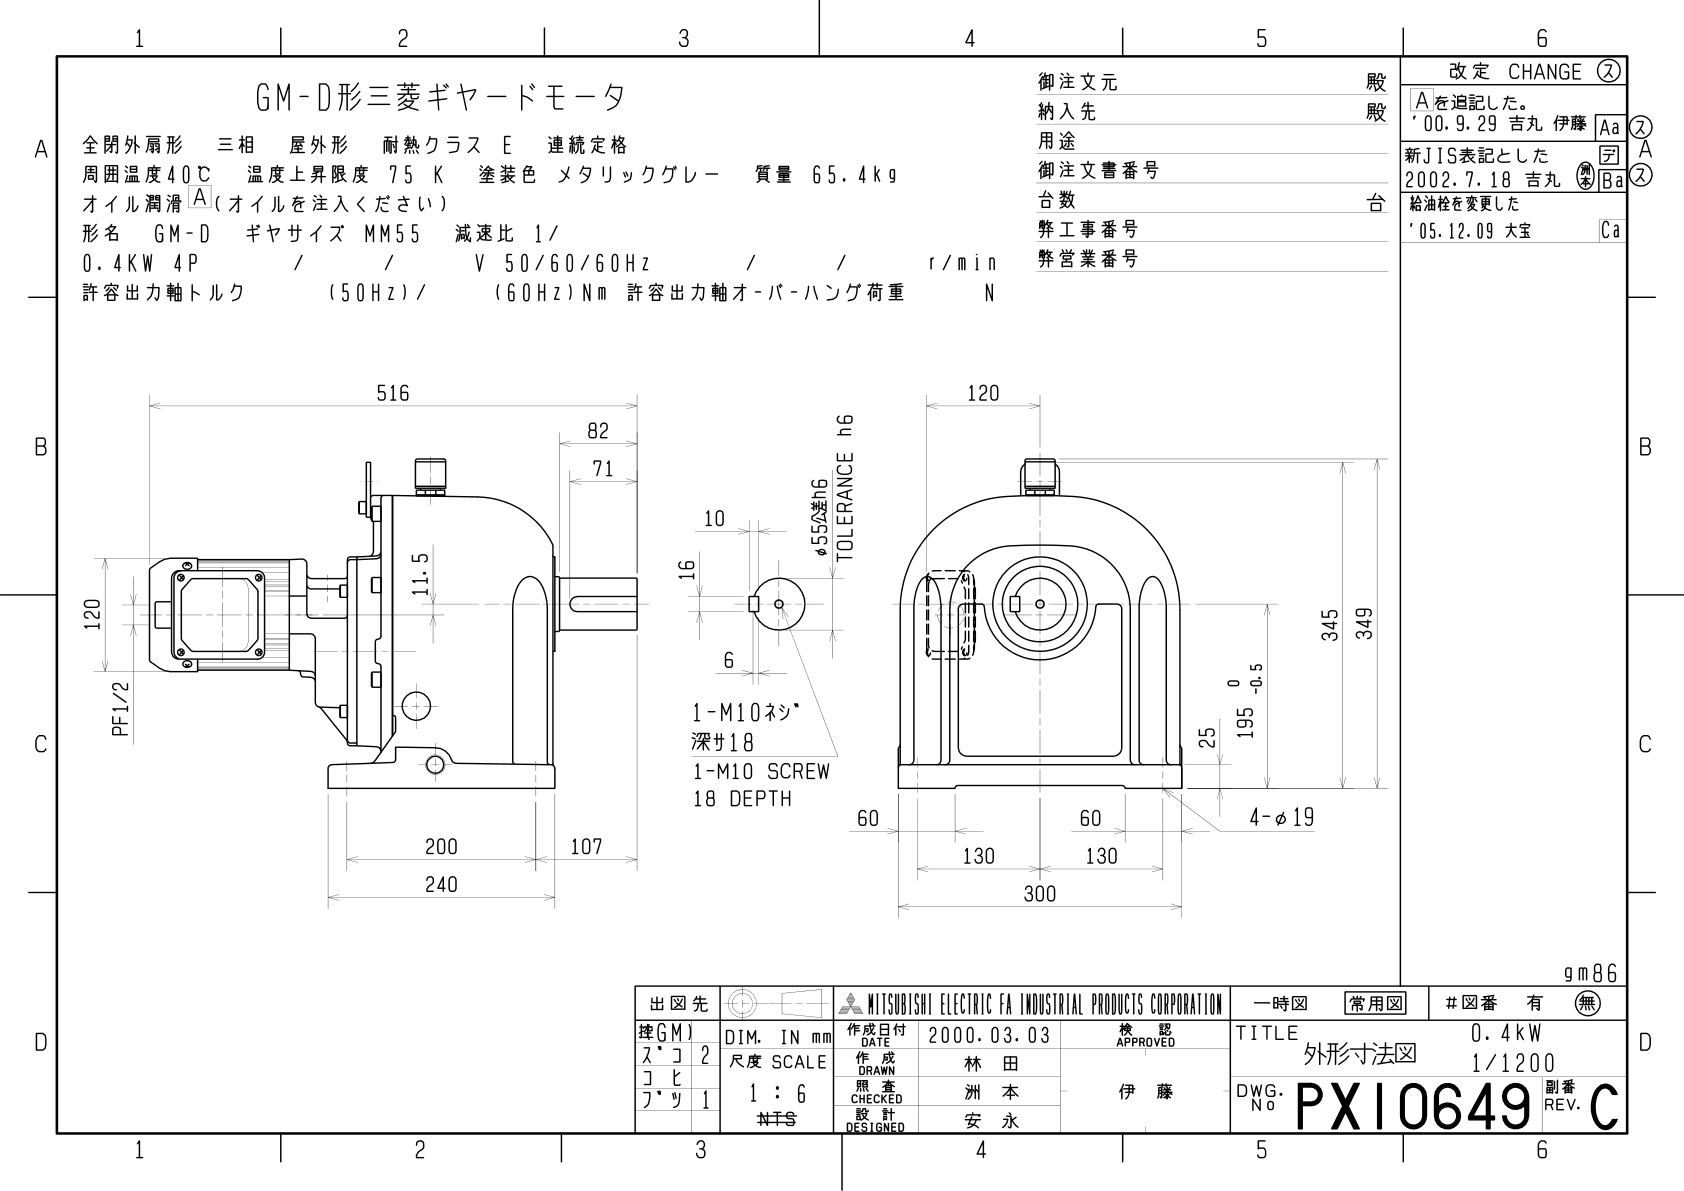GM_D_屋外＿三相_脚: (1, 1, 1674, 1186)
